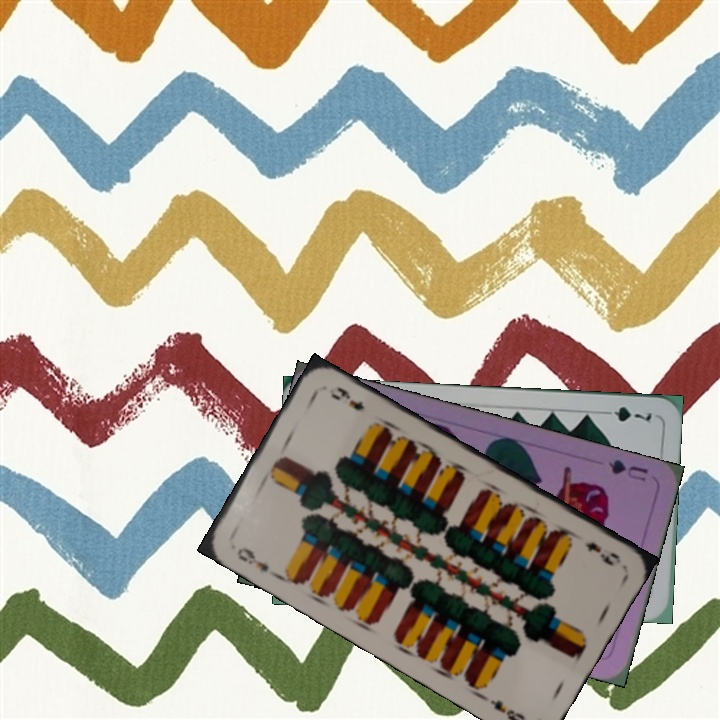E9: (233, 543, 280, 580), (582, 537, 624, 569)
G7: (597, 402, 656, 426)
GU: (604, 455, 651, 485)
